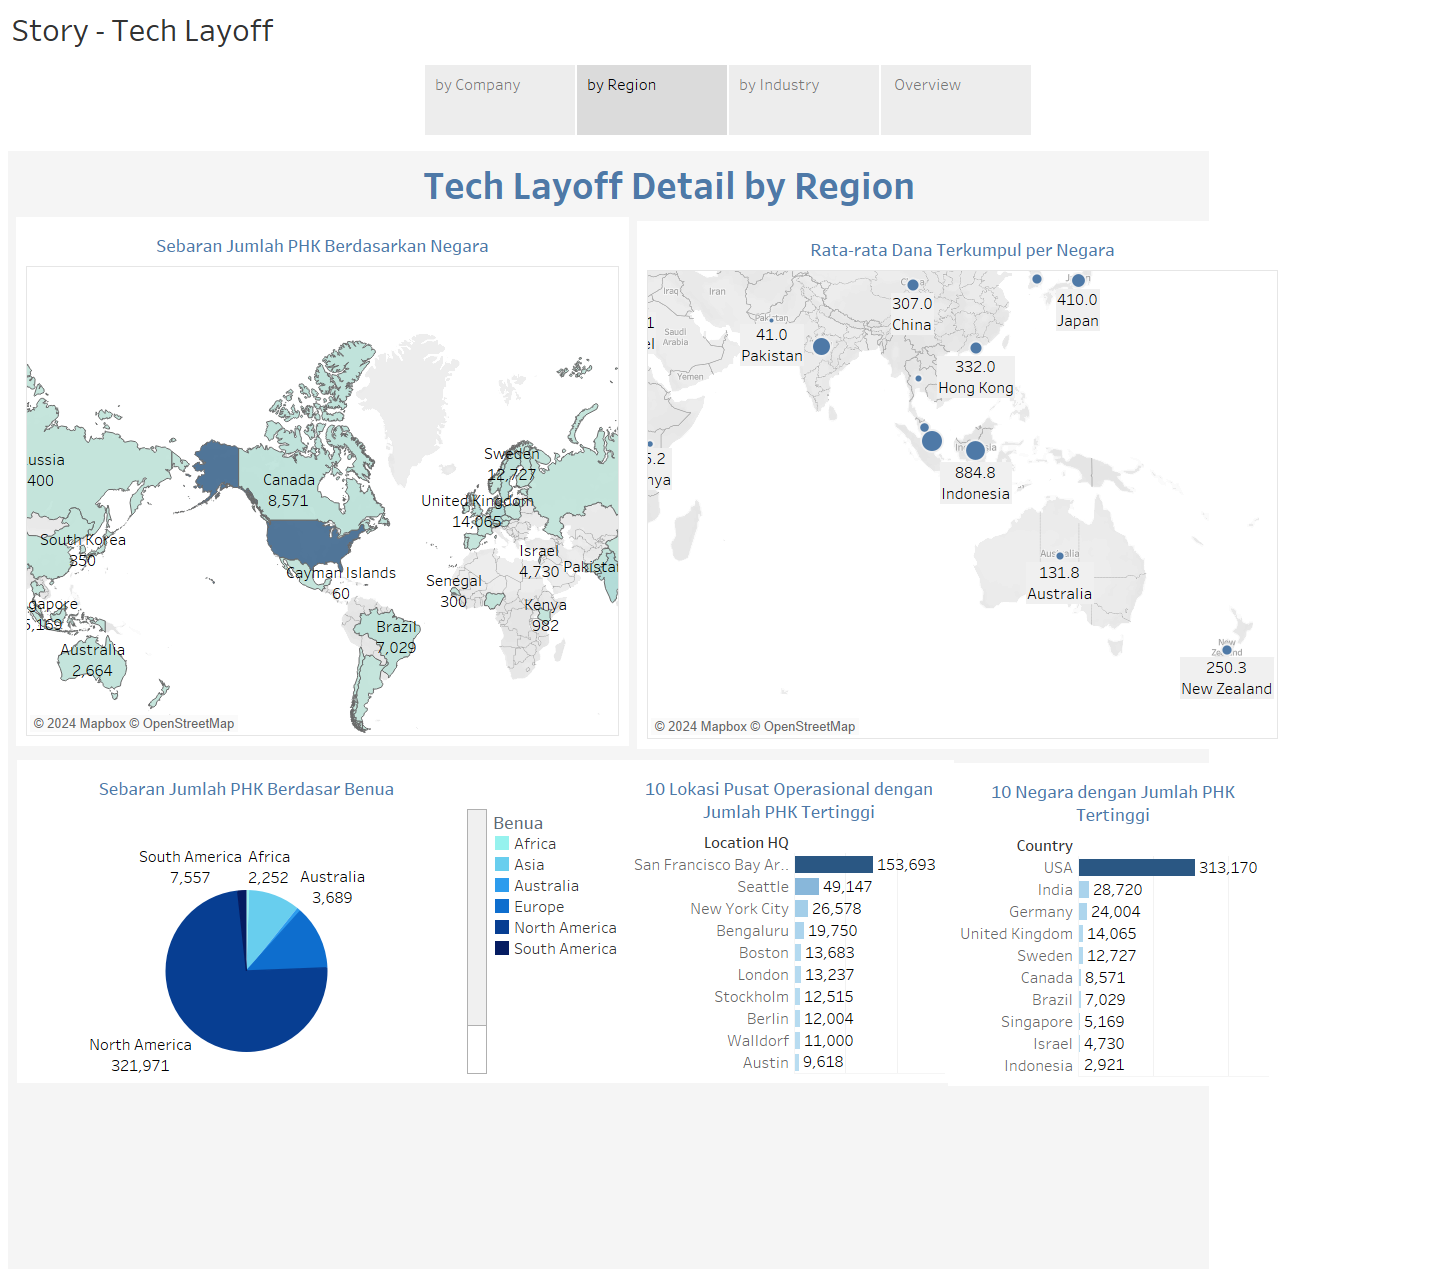

Layout of this report page (visuals, bound fields, positions):
{"tool":"tableau","page":{"name":"D2 - Region","canvas":[1200,1200],"ordinal":1},"visuals":[{"type":"worksheet","title":"10 Lokasi Pusat Opasional dngan Jumlah PHK Ttinggi","mark":"Automatic","rows":["Location_HQ"],"cols":["Laid_Off"],"box":[606,599,350,343]},{"type":"legend","title":"Sebaran Jumlah PHK Berdasar Benua","param":"[federated.1p3j1ld0x9lp8h15ivort0m4j0uw].[none:Continent:nk]","box":[484,657,140,209]}]}

Visuals, with their boxes on the page's 1200x1200 design canvas (x1, y1, x2, y2). These are canvas units, not pixel positions in the 1454x1269 screenshot, which may show the page scaled, cropped or inside an application window:
"10 Lokasi Pusat Opasional dngan Jumlah PHK Ttinggi" worksheet: [606,599,956,942]
"Sebaran Jumlah PHK Berdasar Benua" legend: [484,657,624,866]
